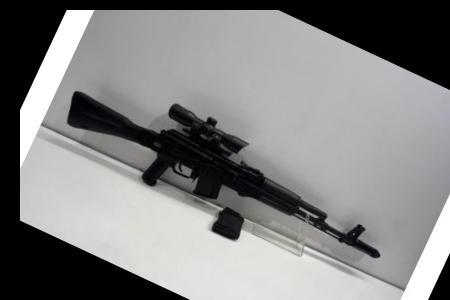larga: (67, 89, 382, 259)
